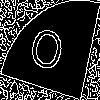O: (25, 25, 67, 82)
